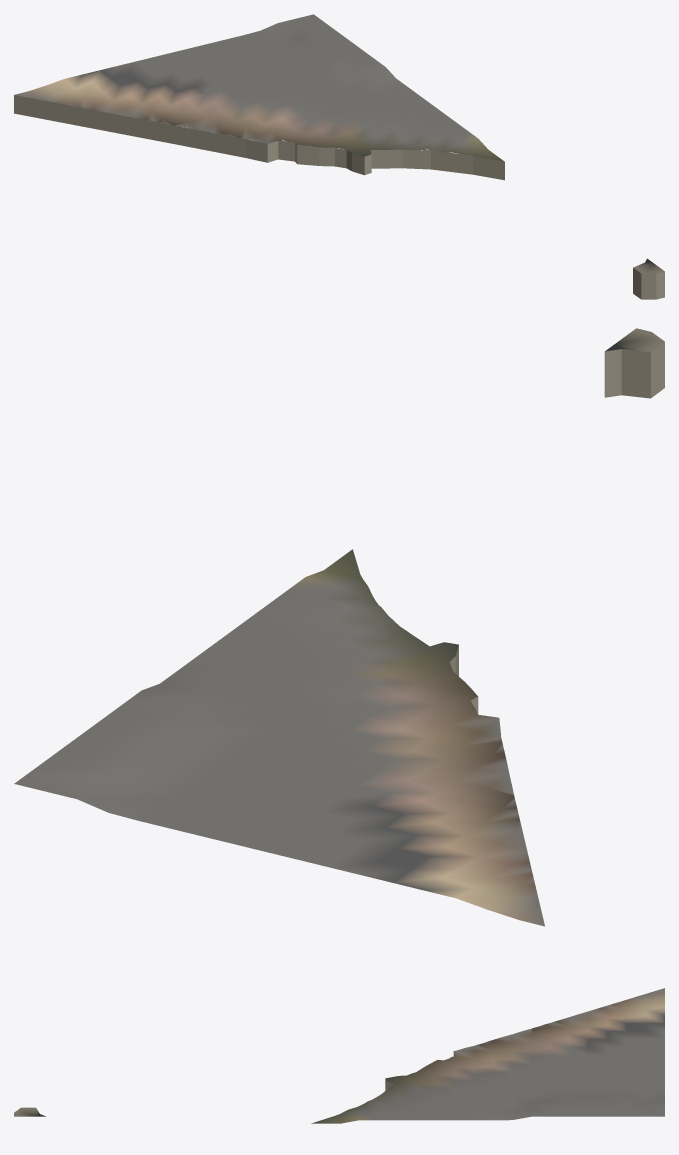
Rendered from terrain.glb.
3 views of the same model, one above another, from view 1: azimuth 30°, elevation 25°; view 2: azimuth 150°, elevation 25°; view 3: azimuth 270°, elevation 25° (orthographic). The views are drawn at different scales.
Visible parts, largest first — view 1: T_W2_S2_terrain; view 2: T_W2_S2_terrain; view 3: T_W2_S2_terrain.
Boxes of the visible parts, <box> form: T_W2_S2_terrain: <box>14,14,664,299</box>; T_W2_S2_terrain: <box>14,328,664,926</box>; T_W2_S2_terrain: <box>14,988,664,1123</box>.
Size of the model in its own units: 84.13 by 7 by 171.
